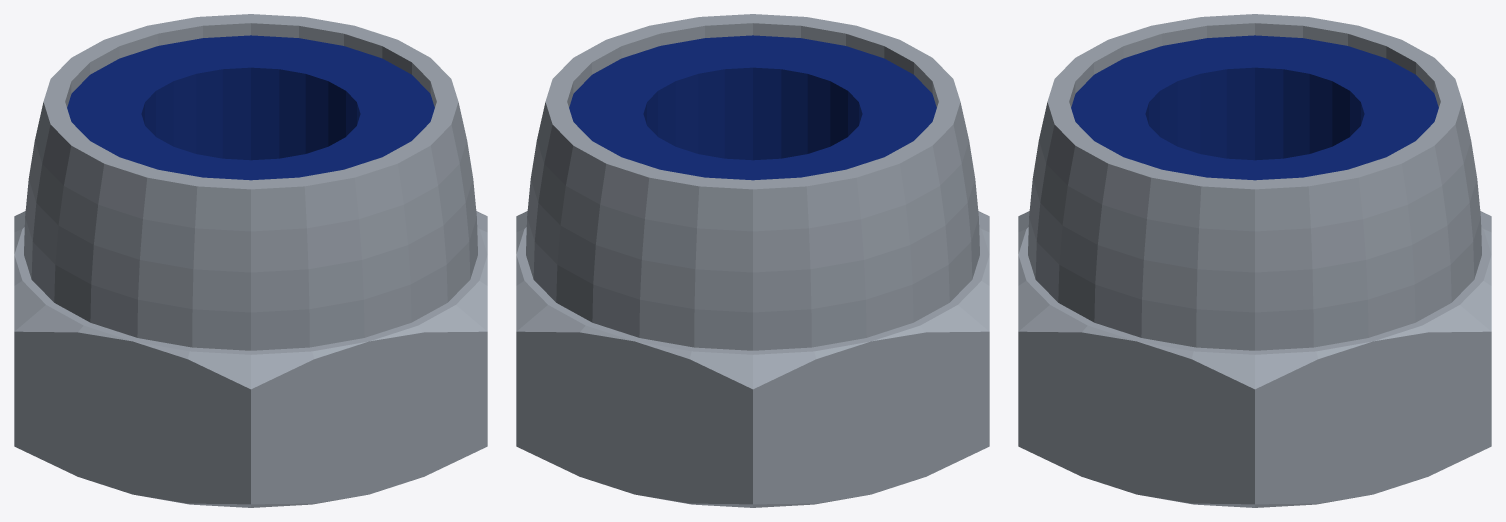
Rendered from model_display.glb.
The picture shows the model from 3 angles, left to right: view 1: azimuth 30°, elevation 25°; view 2: azimuth 150°, elevation 25°; view 3: azimuth 270°, elevation 25°; orthographic projection.
Visible parts, largest first — view 1: steel, nylon_insert; view 2: steel, nylon_insert; view 3: steel, nylon_insert.
Part boxes in pixels (left/top/right/bottom): steel: left=14, top=14, right=487, bottom=507; nylon_insert: left=67, top=35, right=434, bottom=180; steel: left=516, top=14, right=989, bottom=507; nylon_insert: left=569, top=35, right=936, bottom=180; steel: left=1018, top=14, right=1491, bottom=507; nylon_insert: left=1071, top=35, right=1438, bottom=180.
Bounding box in the file's own units: 0.00808 × 0.005 × 0.007.
